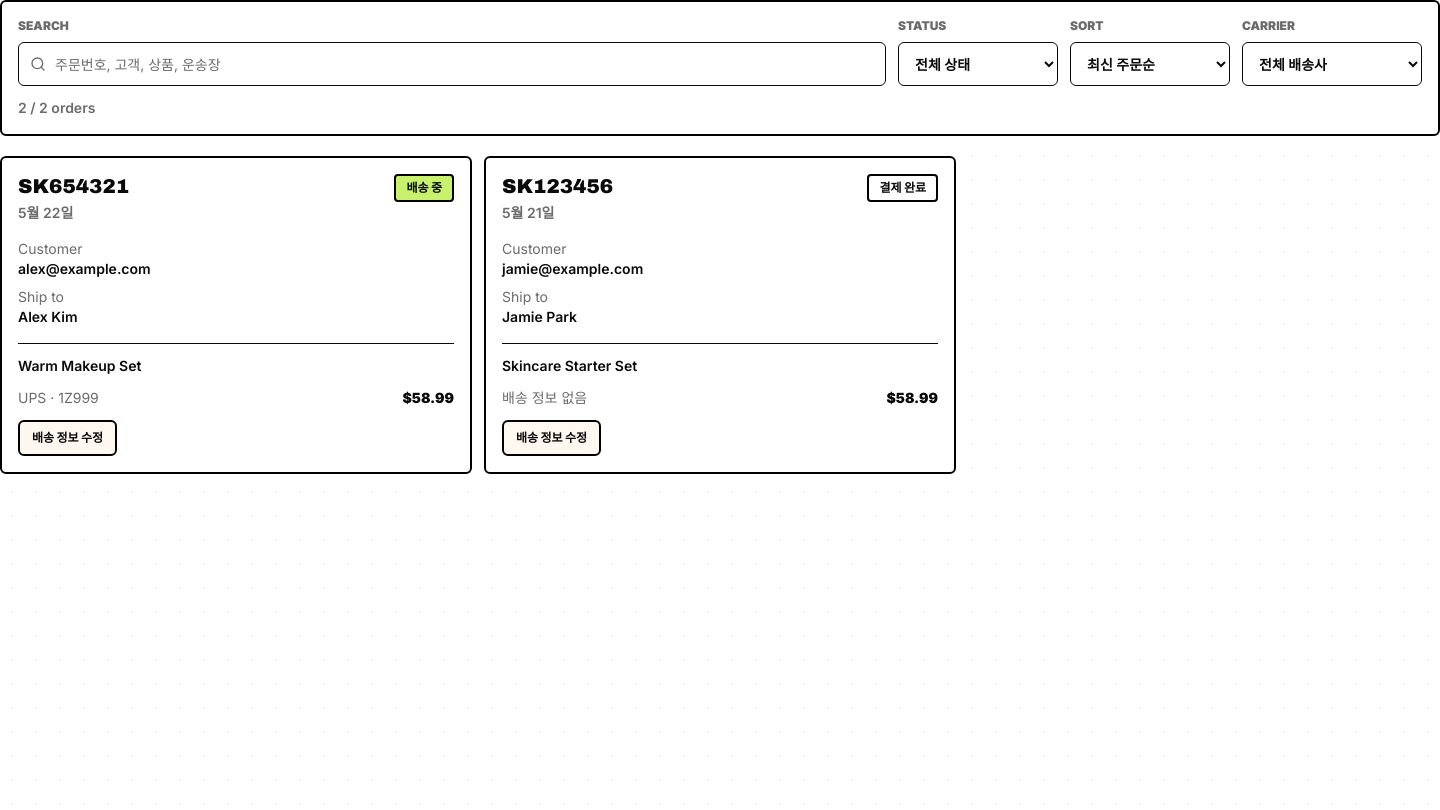
Scenario: AdminOrdersClient › opens a fulfillment dialog from an order card
Click the button with test id "admin-order-order_2".
click(236, 315)  # box [0,156,472,474]
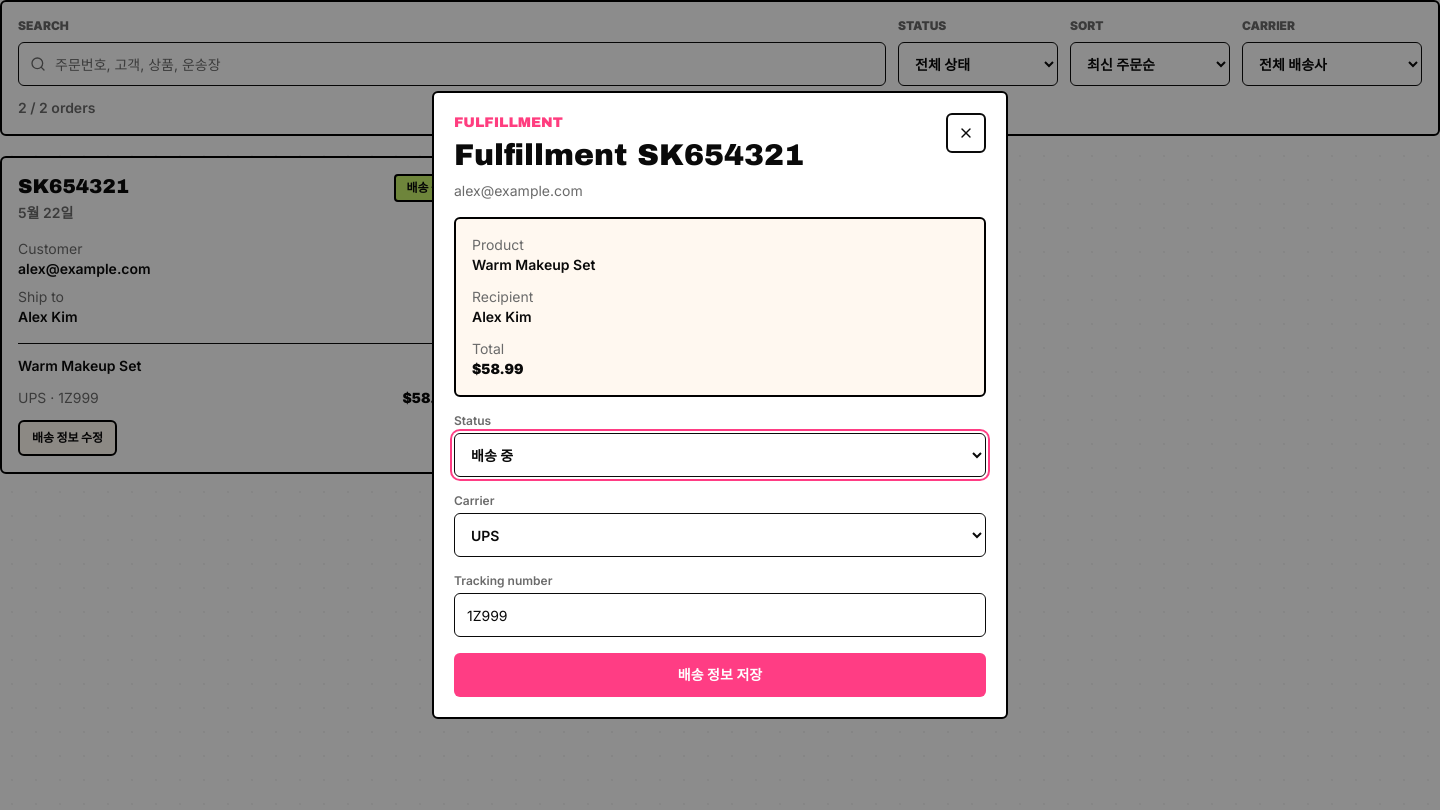
Expected: the dialog "Fulfillment SK654321" is shown, [432,91,1008,719]
Expected: the form with test id "fulfillment-form-order_2" is shown, [454,217,986,697]
Expected: the dropdown showing "UPS" is shown, [454,513,986,557]
